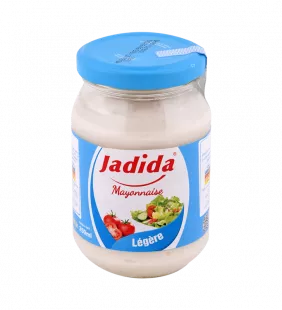JADIDA: (60, 20, 221, 284)
